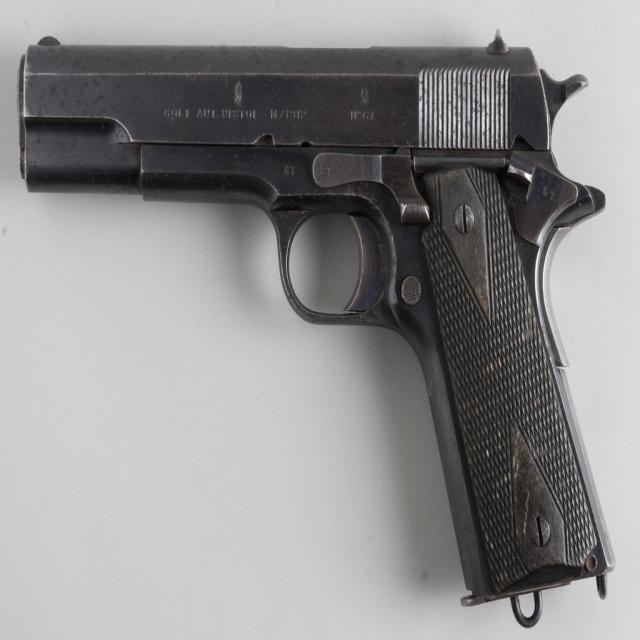Gun: (20, 38, 611, 604)
